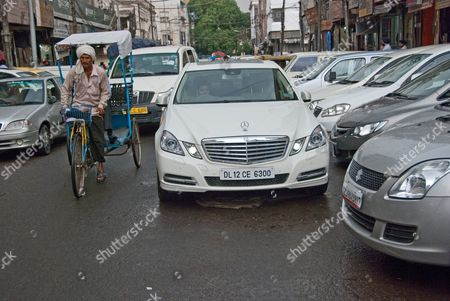licence-plate: (221, 169, 274, 180)
